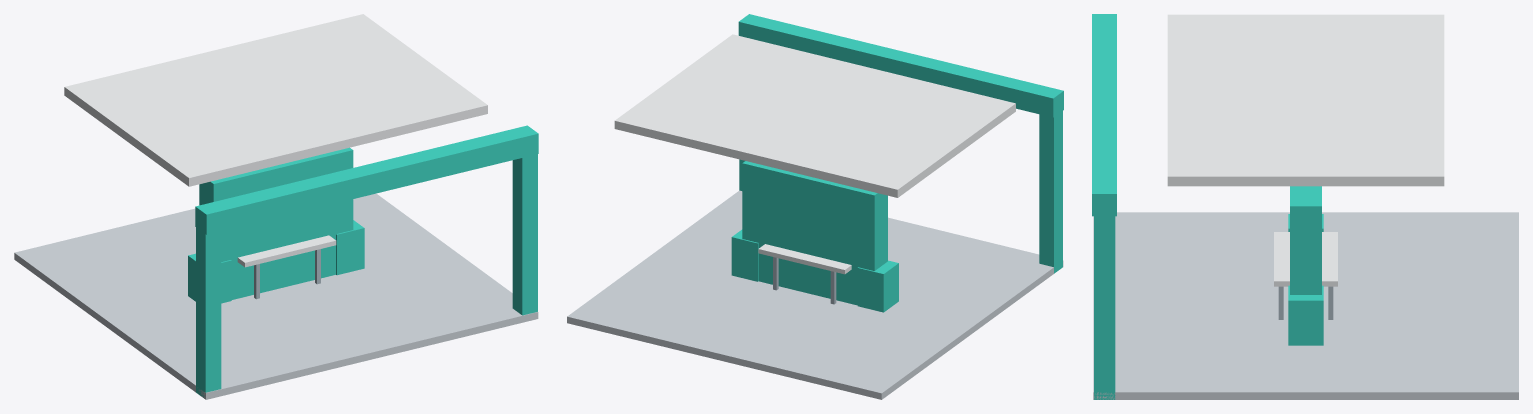
3 renders of one model, left to right at view 1: azimuth 30°, elevation 25°; view 2: azimuth 150°, elevation 25°; view 3: azimuth 270°, elevation 25°, orthographic. The views are drawn at different scales.
Parts seen in each view (by area): view 1: Exhibition Booth Concept; view 2: Exhibition Booth Concept; view 3: Exhibition Booth Concept.
Part boxes in pixels (x1,y1,x2,y2): Exhibition Booth Concept: (14, 14, 538, 399); Exhibition Booth Concept: (567, 14, 1063, 399); Exhibition Booth Concept: (1092, 14, 1518, 399).
Bounding box in the file's own units: 6 × 3.34 × 6.02.
